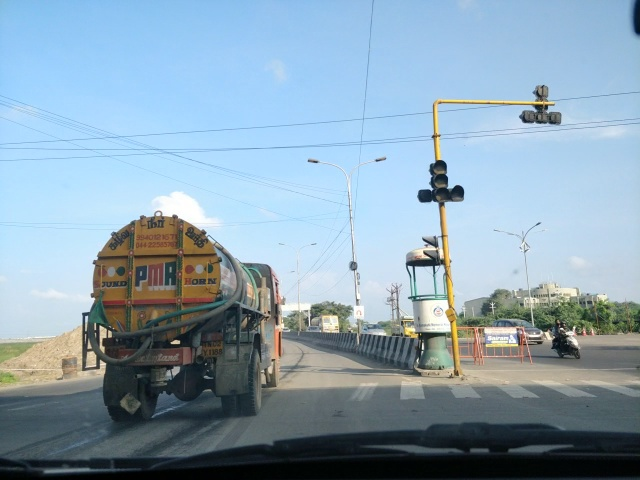car: (495, 314, 545, 347), (359, 320, 387, 338)
motorbike: (550, 313, 585, 363)
truck: (80, 212, 287, 424), (392, 313, 421, 343)
